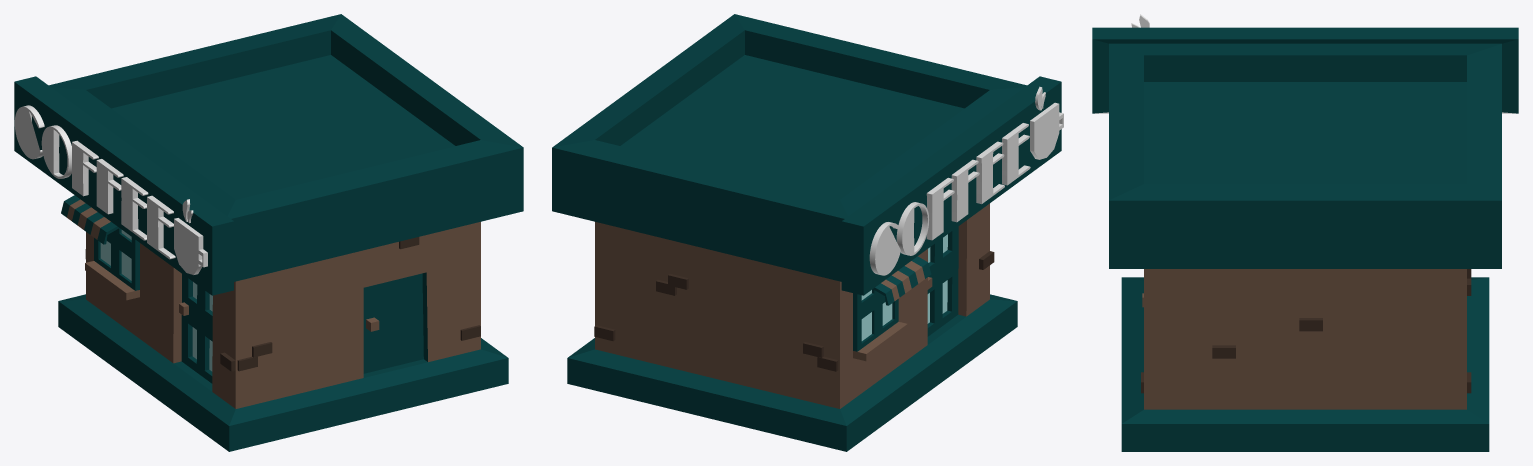
Rendered from Coffee shop.fbx.
3 renders of one model, left to right at view 1: azimuth 30°, elevation 25°; view 2: azimuth 150°, elevation 25°; view 3: azimuth 270°, elevation 25°, orthographic. The views are drawn at different scales.
Visible parts, largest first — view 1: pCube1, typeMesh1, pCube2, pCube5, pCube3; view 2: pCube1, typeMesh1, pCube2, pCube5, pCube3; view 3: pCube1.
Part boxes in pixels (x1=…): pCube1: x1=14, y1=14, x2=523, y2=451; typeMesh1: x1=14, y1=105, x2=175, y2=259; pCube2: x1=85, y1=228, x2=139, y2=300; pCube5: x1=174, y1=218, x2=207, y2=274; pCube3: x1=61, y1=195, x2=118, y2=244; pCube1: x1=552, y1=14, x2=1061, y2=451; typeMesh1: x1=869, y1=123, x2=1030, y2=275; pCube2: x1=853, y1=289, x2=907, y2=361; pCube5: x1=1030, y1=102, x2=1063, y2=159; pCube3: x1=873, y1=256, x2=931, y2=305; pCube1: x1=1092, y1=27, x2=1518, y2=451.
Bounding box in the file's own units: 7.56 × 5.65 × 7.98.
